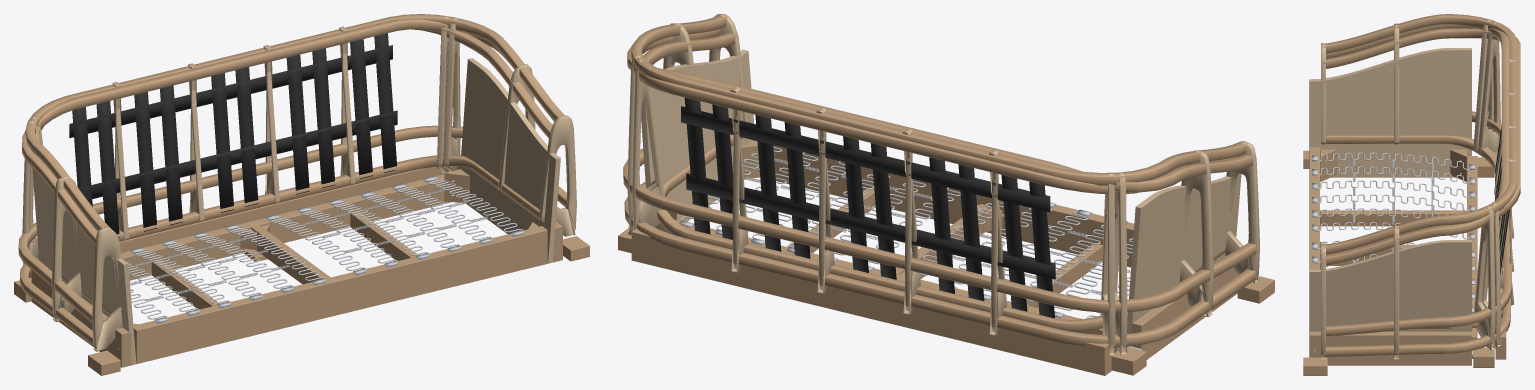
File: frame.glb
3 renders of one model, left to right at view 1: azimuth 30°, elevation 25°; view 2: azimuth 150°, elevation 25°; view 3: azimuth 270°, elevation 25°, orthographic. The views are drawn at different scales.
Visible parts, largest first — view 1: Frame_SP_Back_Elastic_Webbing_50mm, Frame_FR_A_Front_Seat_Rail_Beech_38x120, Frame_FR_F_Inner_Arm_Panel_R_Birch_Ply_18, Frame_FR_B_Rear_Seat_Rail_Beech_38x86, Frame_FR_K_Outer_Upper_Stringer_Beech_28x28_continuous, Frame_FR_I_Top_Rail_Beech_28x28_continuous, Frame_FR_F_Inner_Arm_Panel_L_Birch_Ply_18, Frame_FR_H_Inner_Lower_Rail_Beech_28x28_continuous, Frame_FR_K_Outer_Mid_Stringer_Beech_28x28_continuous, Frame_FR_H_Back_Base_Rail_Beech_38x90, Frame_FR_G_Arm_Rib_Front_L_Birch_Ply_18, Frame_FR_G_Arm_Rib_Front_R_Birch_Ply_18 (+30 smaller); view 2: Frame_SP_Back_Elastic_Webbing_50mm, Frame_FR_H_Back_Base_Rail_Beech_38x90, Frame_FR_K_Outer_Mid_Stringer_Beech_28x28_continuous, Frame_FR_F_Inner_Arm_Panel_L_Birch_Ply_18, Frame_FR_K_Outer_Base_Stringer_Beech_28x28_continuous, Frame_FR_I_Top_Rail_Beech_28x28_continuous, Frame_FR_K_Inner_Top_Stringer_Beech_28x28_continuous, Frame_FR_A_Front_Seat_Rail_Beech_38x120, Frame_FR_F_Inner_Arm_Panel_R_Birch_Ply_18, Frame_FR_H_Inner_Lower_Rail_Beech_28x28_continuous, Frame_FR_K_Outer_Upper_Stringer_Beech_28x28_continuous, Frame_FR_G_Arm_Rib_Mid_L_Birch_Ply_18 (+21 smaller); view 3: Frame_FR_F_Inner_Arm_Panel_L_Birch_Ply_18, Frame_FR_F_Inner_Arm_Panel_R_Birch_Ply_18, Frame_FR_I_Top_Rail_Beech_28x28_continuous, Frame_FR_K_Outer_Upper_Stringer_Beech_28x28_continuous, Frame_FR_C_Side_Seat_Rail_R_Beech_38x120, Frame_FR_K_Inner_Top_Stringer_Beech_28x28_continuous, Frame_FR_K_Outer_Mid_Stringer_Beech_28x28_continuous, Frame_FR_K_Outer_Base_Stringer_Beech_28x28_continuous, Frame_FR_G_Arm_Rib_Rear_R_Birch_Ply_18, Frame_FR_H_Inner_Lower_Rail_Beech_28x28_continuous, Frame_FR_E_Lower_Cross_Member_L_Beech_32x50, Frame_FR_J_Corner_Former_L_Birch_Ply_18 (+24 smaller).
Part boxes in pixels (left/top/right/bottom): Frame_SP_Back_Elastic_Webbing_50mm: left=69, top=33, right=397, bottom=237; Frame_FR_A_Front_Seat_Rail_Beech_38x120: left=133, top=226, right=547, bottom=363; Frame_FR_F_Inner_Arm_Panel_R_Birch_Ply_18: left=460, top=58, right=560, bottom=263; Frame_FR_B_Rear_Seat_Rail_Beech_38x86: left=121, top=174, right=451, bottom=280; Frame_FR_K_Outer_Upper_Stringer_Beech_28x28_continuous: left=22, top=18, right=554, bottom=244; Frame_FR_I_Top_Rail_Beech_28x28_continuous: left=25, top=14, right=565, bottom=231; Frame_FR_F_Inner_Arm_Panel_L_Birch_Ply_18: left=32, top=167, right=136, bottom=365; Frame_FR_H_Inner_Lower_Rail_Beech_28x28_continuous: left=51, top=155, right=540, bottom=314; Frame_FR_K_Outer_Mid_Stringer_Beech_28x28_continuous: left=18, top=125, right=567, bottom=322; Frame_FR_H_Back_Base_Rail_Beech_38x90: left=29, top=166, right=444, bottom=277; Frame_FR_G_Arm_Rib_Front_L_Birch_Ply_18: left=92, top=226, right=122, bottom=351; Frame_FR_G_Arm_Rib_Front_R_Birch_Ply_18: left=539, top=115, right=576, bottom=236; Frame_SP_Back_Elastic_Webbing_50mm: left=681, top=97, right=1055, bottom=318; Frame_FR_H_Back_Base_Rail_Beech_38x90: left=631, top=228, right=1111, bottom=375; Frame_FR_K_Outer_Mid_Stringer_Beech_28x28_continuous: left=623, top=148, right=1256, bottom=312; Frame_FR_F_Inner_Arm_Panel_L_Birch_Ply_18: left=1127, top=173, right=1241, bottom=333; Frame_FR_K_Outer_Base_Stringer_Beech_28x28_continuous: left=624, top=181, right=1256, bottom=347; Frame_FR_I_Top_Rail_Beech_28x28_continuous: left=631, top=15, right=1247, bottom=185; Frame_FR_K_Inner_Top_Stringer_Beech_28x28_continuous: left=639, top=33, right=1235, bottom=194; Frame_FR_A_Front_Seat_Rail_Beech_38x120: left=751, top=139, right=1134, bottom=267; Frame_FR_F_Inner_Arm_Panel_R_Birch_Ply_18: left=641, top=49, right=754, bottom=221; Frame_FR_H_Inner_Lower_Rail_Beech_28x28_continuous: left=657, top=135, right=1225, bottom=332; Frame_FR_K_Outer_Upper_Stringer_Beech_28x28_continuous: left=627, top=29, right=1254, bottom=192; Frame_FR_G_Arm_Rib_Mid_L_Birch_Ply_18: left=1179, top=150, right=1213, bottom=316; Frame_FR_F_Inner_Arm_Panel_L_Birch_Ply_18: left=1309, top=48, right=1471, bottom=177; Frame_FR_F_Inner_Arm_Panel_R_Birch_Ply_18: left=1309, top=240, right=1471, bottom=331; Frame_FR_I_Top_Rail_Beech_28x28_continuous: left=1323, top=14, right=1516, bottom=254; Frame_FR_K_Outer_Upper_Stringer_Beech_28x28_continuous: left=1323, top=24, right=1509, bottom=265; Frame_FR_C_Side_Seat_Rail_R_Beech_38x120: left=1309, top=331, right=1471, bottom=365; Frame_FR_K_Inner_Top_Stringer_Beech_28x28_continuous: left=1323, top=28, right=1520, bottom=255; Frame_FR_K_Outer_Mid_Stringer_Beech_28x28_continuous: left=1326, top=111, right=1511, bottom=336; Frame_FR_K_Outer_Base_Stringer_Beech_28x28_continuous: left=1323, top=151, right=1510, bottom=356; Frame_FR_G_Arm_Rib_Rear_R_Birch_Ply_18: left=1474, top=206, right=1495, bottom=350; Frame_FR_H_Inner_Lower_Rail_Beech_28x28_continuous: left=1324, top=135, right=1502, bottom=328; Frame_FR_E_Lower_Cross_Member_L_Beech_32x50: left=1320, top=210, right=1466, bottom=226; Frame_FR_J_Corner_Former_L_Birch_Ply_18: left=1478, top=21, right=1500, bottom=154.
Size of the model in its own units: 1.81 by 0.6243 by 0.773.
